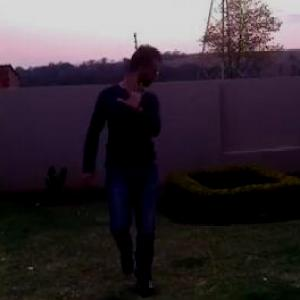follow_hand: (113, 73, 151, 112)
